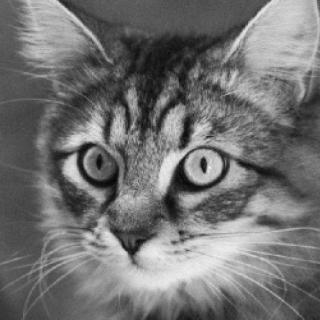cat: (32, 0, 318, 277)
nose: (105, 202, 155, 260)
